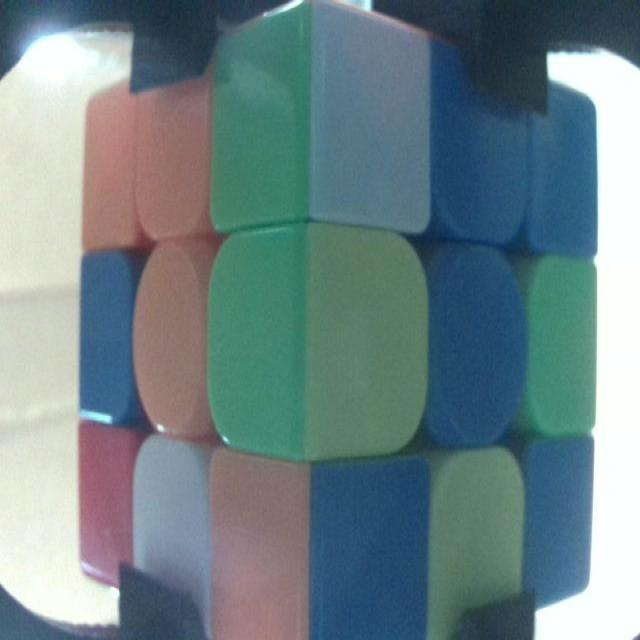b: (308, 463, 425, 640), (432, 42, 528, 245), (428, 246, 524, 444), (532, 67, 596, 256), (522, 441, 592, 602), (82, 254, 133, 422)
g: (210, 4, 308, 228), (209, 237, 304, 451), (524, 255, 598, 439)
o: (214, 457, 303, 640), (135, 46, 210, 236), (136, 246, 208, 439), (85, 81, 132, 247)
r: (77, 422, 130, 580)
w: (312, 5, 430, 229), (135, 439, 209, 633)
y: (307, 228, 428, 463), (428, 452, 524, 639)
